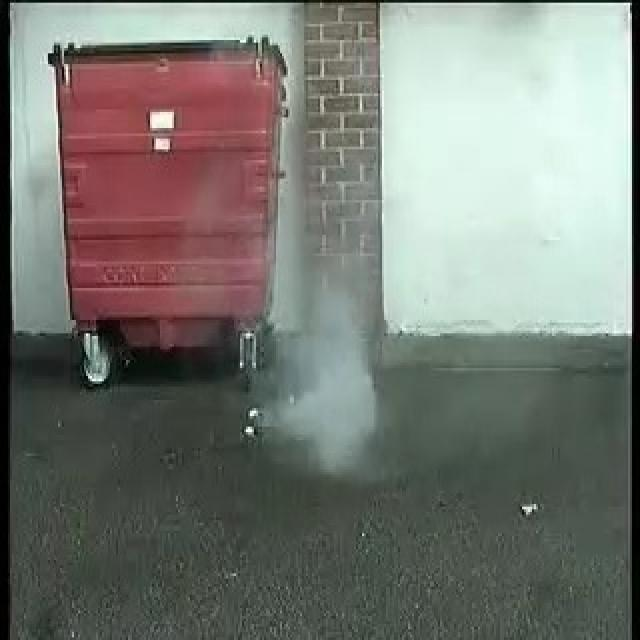smoke: (272, 282, 378, 479)
